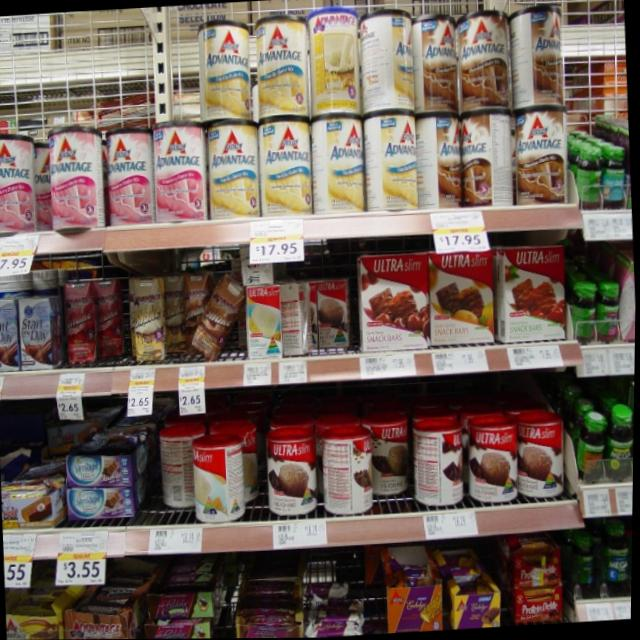q199: (265, 422, 325, 526), (318, 416, 378, 517), (465, 412, 526, 505), (413, 416, 469, 512), (513, 416, 570, 494), (370, 406, 416, 497)
